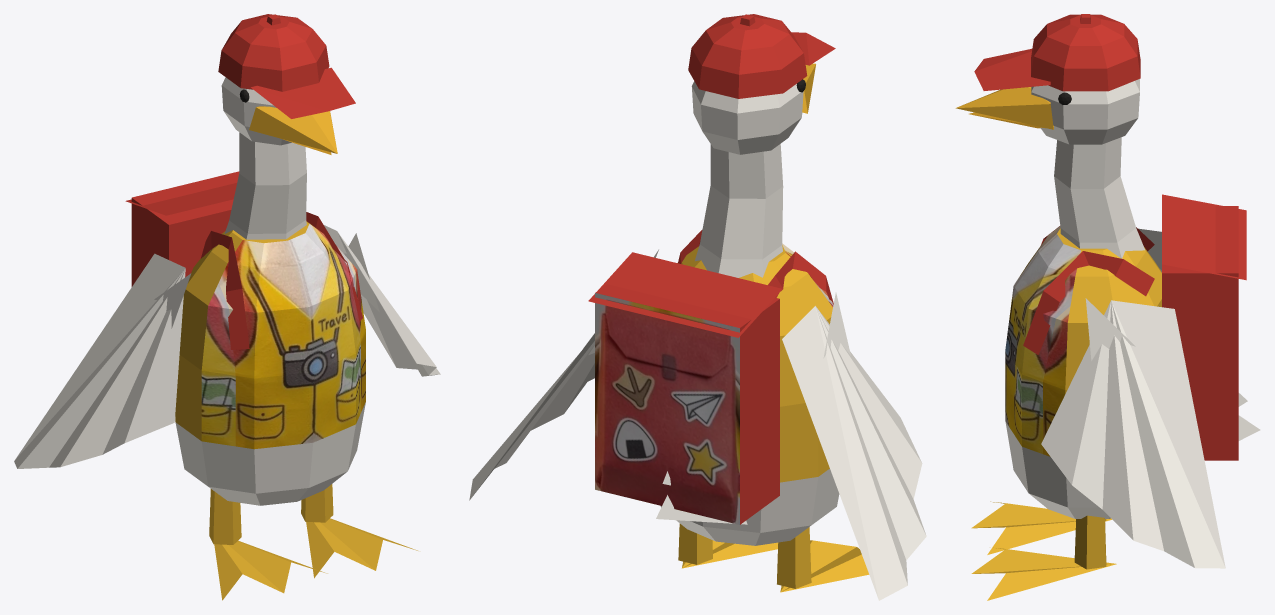
Rendered from goose.glb.
The picture shows the model from 3 angles, left to right: view 1: azimuth 30°, elevation 25°; view 2: azimuth 150°, elevation 25°; view 3: azimuth 270°, elevation 25°; orthographic projection. The views are drawn at different scales.
Parts seen in each view (by area): view 1: body, wing_L, cap, backpack, neck, wing_R, foot_R, foot_L, beak, straps, head, leg_L (+1 smaller); view 2: backpack, wing_L, body, neck, cap, head, wing_R, foot_L, leg_L, straps, leg_R, foot_R (+1 smaller); view 3: wing_R, body, backpack, cap, neck, head, straps, foot_R, foot_L, beak, leg_R, wing_L (+1 smaller).
Part boxes in pixels (x1,y1,x2,y2): body: [175, 221, 365, 505]; wing_L: [14, 253, 191, 468]; cap: [218, 14, 355, 118]; backpack: [125, 171, 239, 286]; neck: [224, 132, 306, 239]; wing_R: [324, 225, 440, 376]; foot_R: [306, 518, 417, 578]; foot_L: [214, 540, 327, 600]; beak: [249, 106, 337, 153]; straps: [201, 212, 362, 349]; head: [221, 77, 291, 145]; leg_L: [209, 489, 241, 544]; backpack: [588, 252, 782, 524]; wing_L: [782, 292, 926, 600]; body: [660, 243, 839, 545]; neck: [695, 144, 783, 277]; cap: [688, 14, 835, 98]; head: [691, 81, 803, 154]; wing_R: [469, 249, 658, 500]; foot_L: [780, 540, 869, 592]; leg_L: [777, 527, 811, 588]; straps: [678, 230, 833, 304]; leg_R: [678, 523, 712, 564]; foot_R: [682, 540, 778, 568]; wing_R: [1041, 298, 1225, 568]; body: [1005, 226, 1161, 518]; backpack: [1162, 194, 1246, 460]; cap: [974, 14, 1140, 91]; neck: [1054, 137, 1144, 258]; head: [1031, 79, 1139, 144]; straps: [1023, 226, 1154, 354]; foot_R: [971, 547, 1116, 600]; foot_L: [971, 501, 1111, 554]; beak: [955, 87, 1053, 129]; leg_R: [1074, 515, 1106, 569]; wing_L: [1138, 228, 1161, 271].
Size of the model in its own units: 0.1503 by 0.1855 by 0.096.
Materials: 8 (2 with a texture image).
